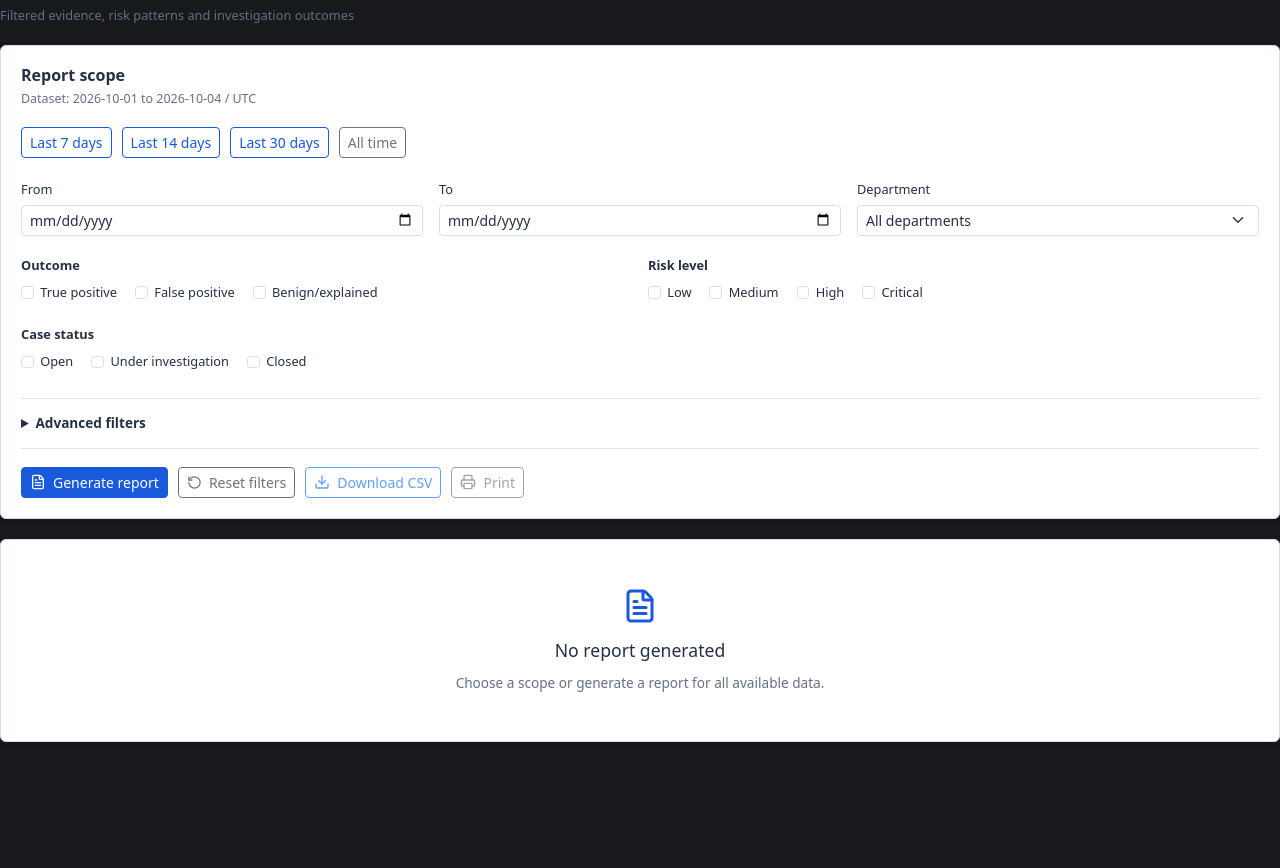
Test: uses discovered departments and includes the entire final day
The width and height of the screenshot is (1280, 868).
Step 1. Type "2026-09-01" into the date field labelled "From" → (222, 220), box x1=21 y1=205 x2=423 y2=236
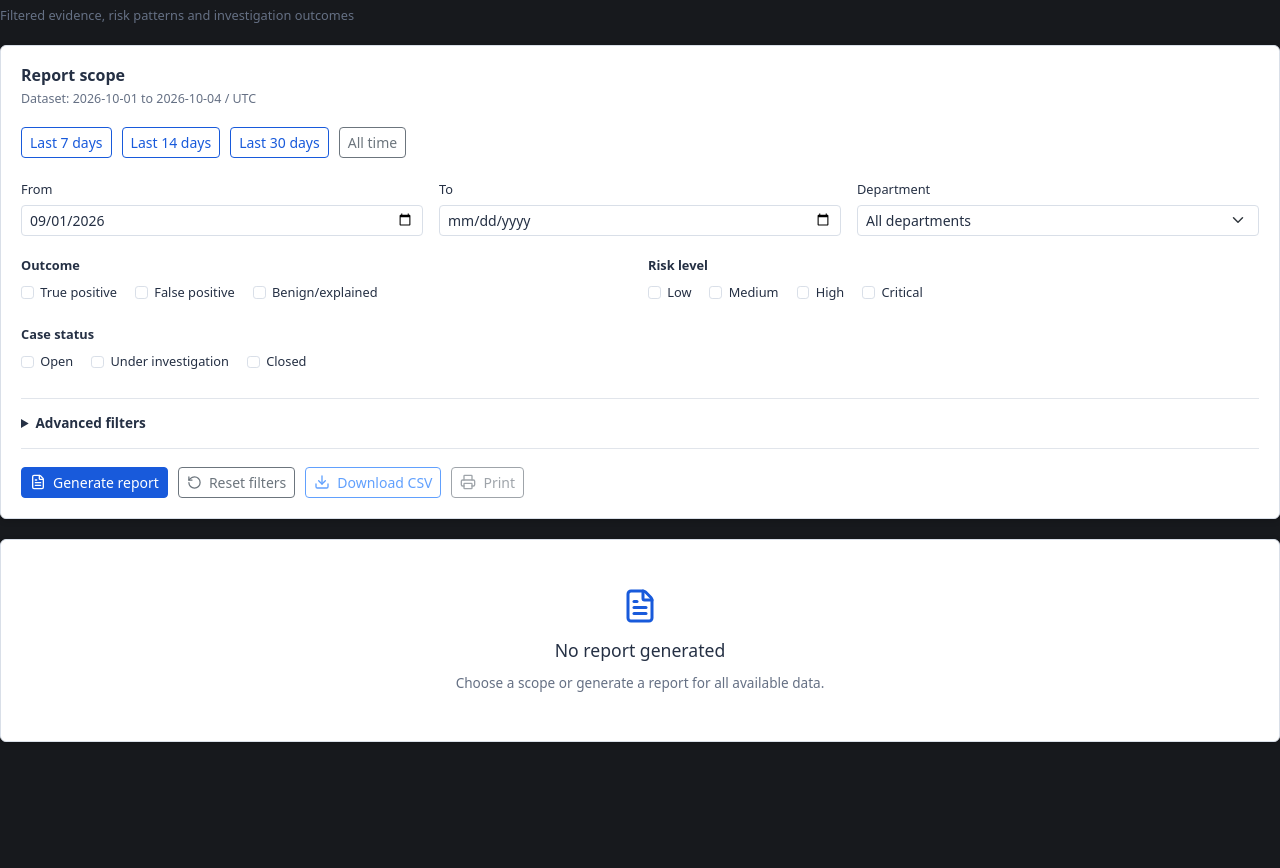
Step 2. Type "2026-09-03" into the date field labelled "To" → (640, 220), box x1=439 y1=205 x2=841 y2=236
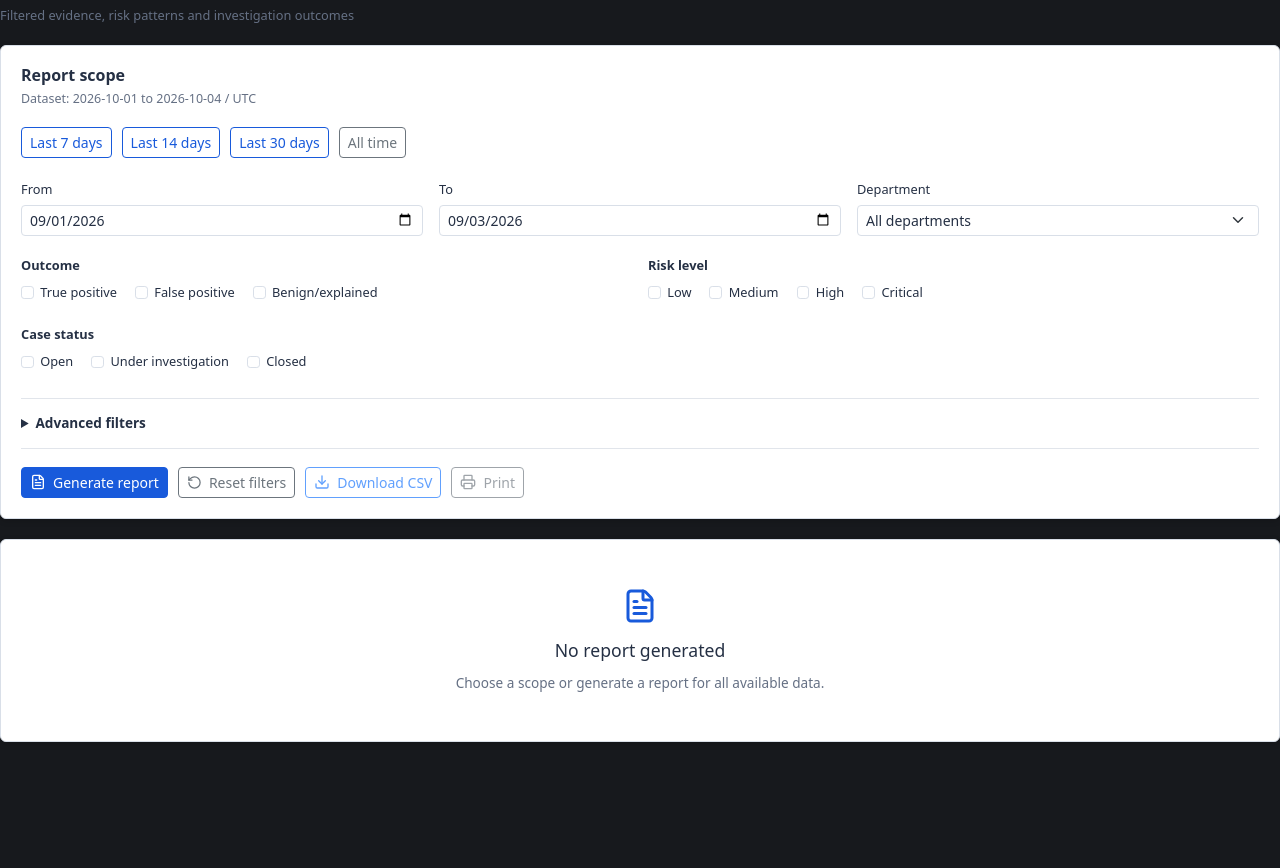
Step 3. Select "Research Lab" in the dropdown labelled "Department" → (1058, 220), box x1=857 y1=205 x2=1259 y2=236
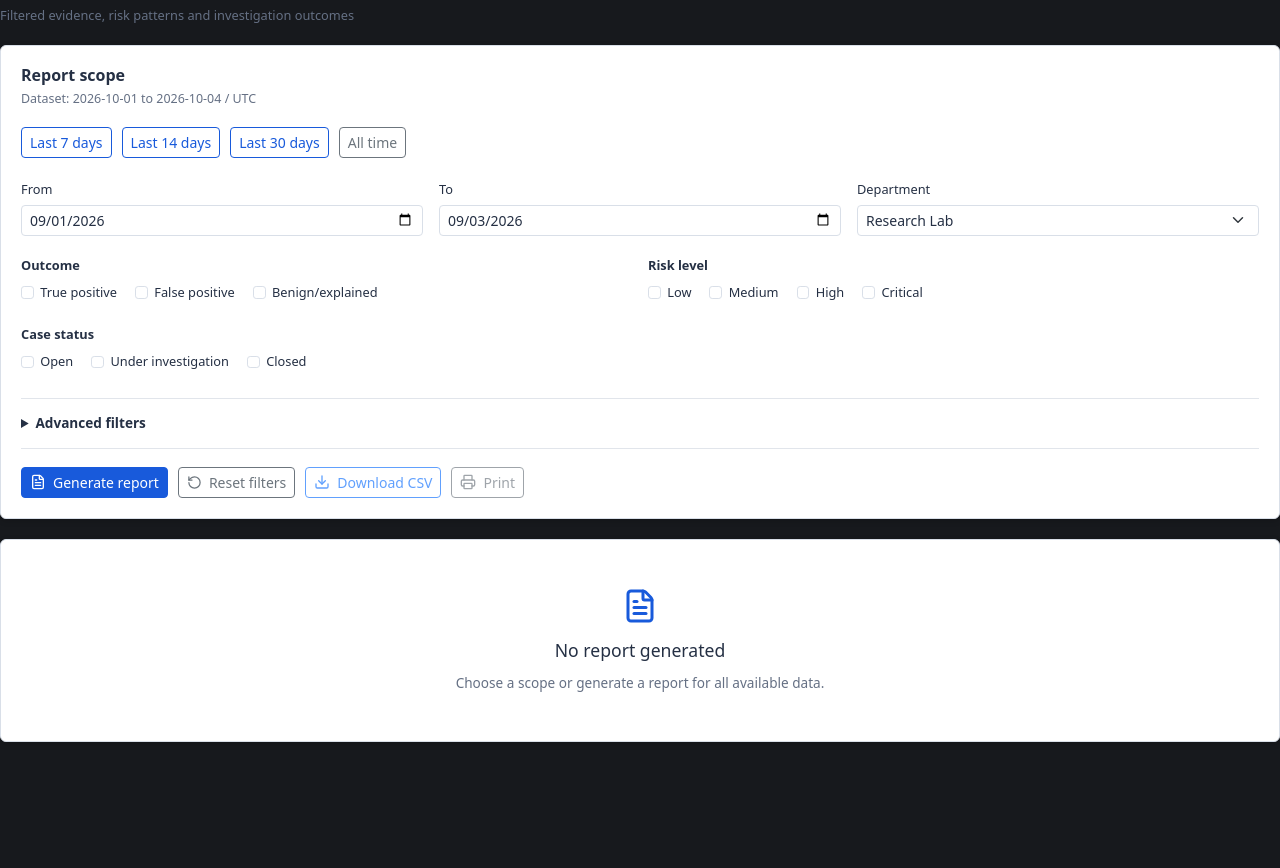
Step 4. Click the button "Generate report" → (94, 482), box x1=21 y1=467 x2=168 y2=498
(page scrolled)
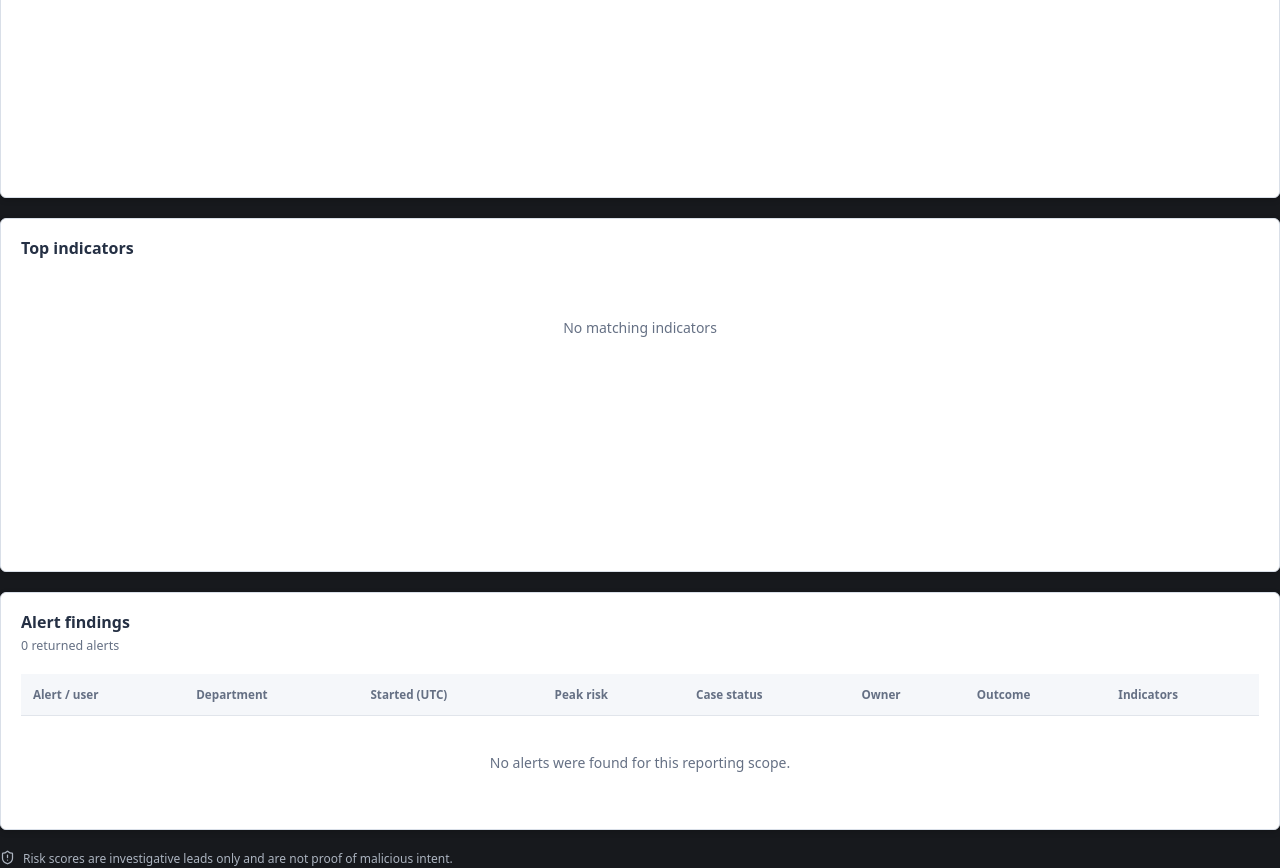
Expected: the text "No alerts were found for this reporting scope." is shown, x1=490 y1=753 x2=790 y2=772
